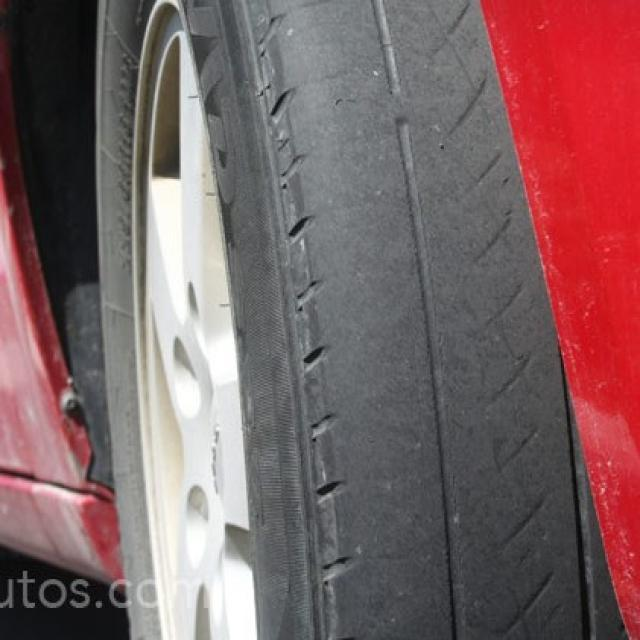Flat spots: (297, 0, 484, 640), (491, 300, 567, 640)
